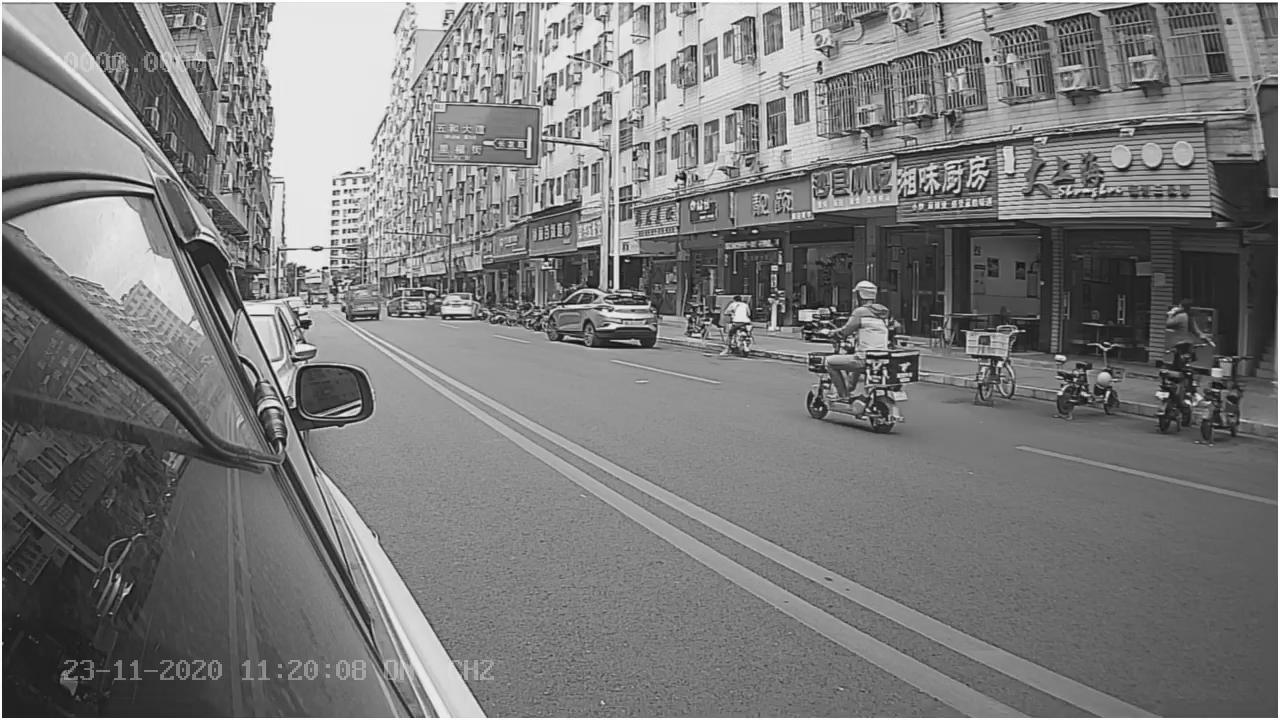person: (841, 278, 891, 352)
